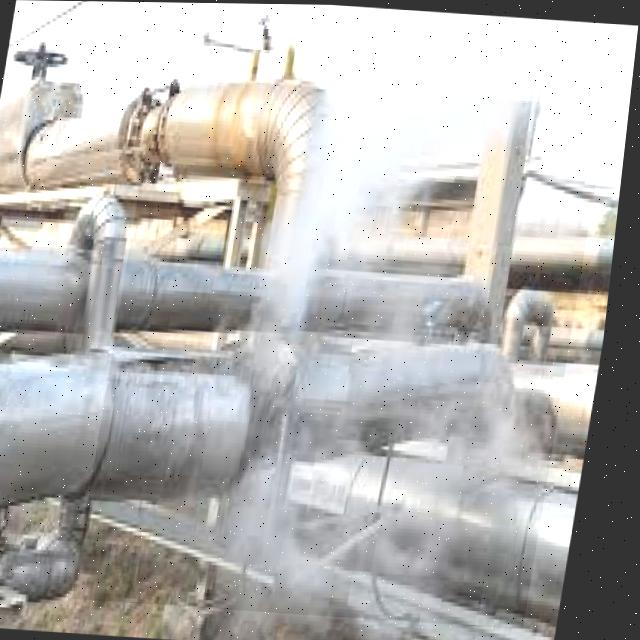corrosion: (170, 187, 382, 508)
